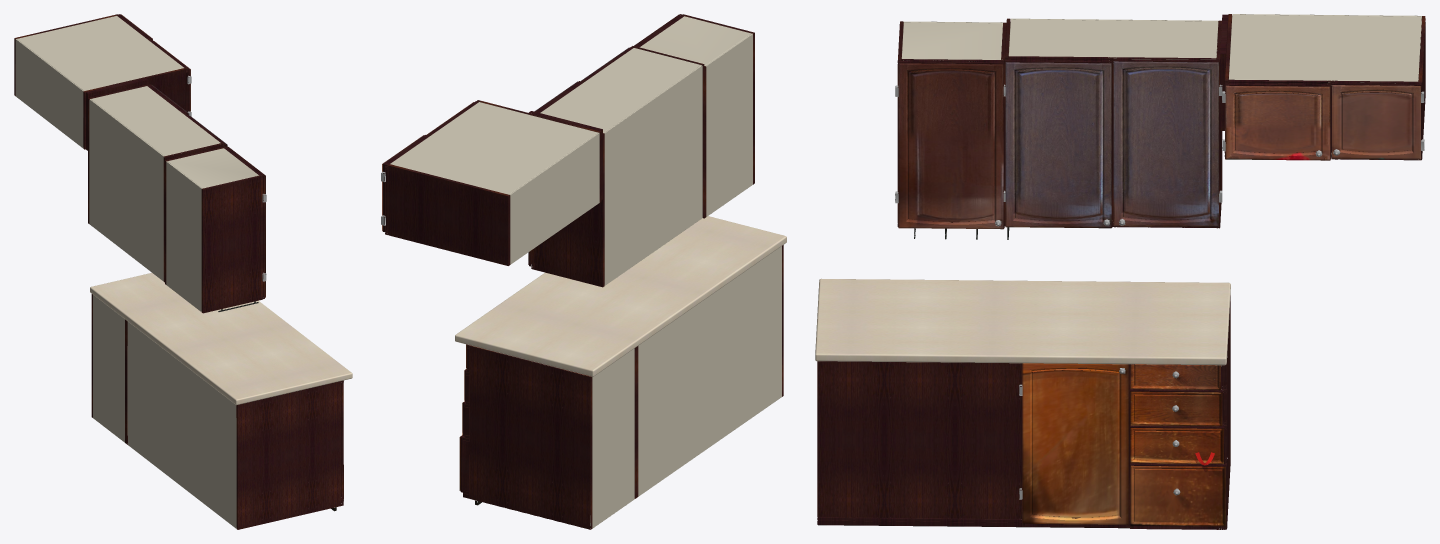
The picture shows the model from 3 angles, left to right: view 1: azimuth 30°, elevation 25°; view 2: azimuth 150°, elevation 25°; view 3: azimuth 270°, elevation 25°; orthographic projection. The views are drawn at different scales.
Parts seen in each view (by area): view 1: prep_base_carcass, prep_countertop, upper_pantry_carcass, upper_dishes_carcass, upper_fridge_carcass, drawer_stack_carcass, upper_pantry_door; view 2: drawer_stack_carcass, upper_fridge_carcass, upper_dishes_carcass, prep_base_carcass, prep_countertop, upper_pantry_carcass; view 3: prep_base_carcass, prep_countertop, upper_dishes_left, upper_dishes_right, upper_pantry_door, prep_base_door, upper_fridge_carcass, upper_dishes_carcass, upper_fridge_left, upper_fridge_right, fridge_side_drawer_4, upper_pantry_carcass (+4 smaller).
Boxes of the visible parts, bbox=[...] form: prep_base_carcass: bbox=[126, 320, 343, 529]; prep_countertop: bbox=[90, 273, 352, 404]; upper_pantry_carcass: bbox=[165, 146, 263, 313]; upper_dishes_carcass: bbox=[88, 84, 224, 282]; upper_fridge_carcass: bbox=[14, 14, 188, 150]; drawer_stack_carcass: bbox=[91, 294, 126, 443]; upper_pantry_door: bbox=[226, 146, 266, 298]; drawer_stack_carcass: bbox=[463, 344, 636, 529]; upper_fridge_carcass: bbox=[385, 100, 602, 265]; upper_dishes_carcass: bbox=[531, 46, 704, 287]; prep_base_carcass: bbox=[636, 245, 783, 497]; prep_countertop: bbox=[455, 216, 786, 376]; upper_pantry_carcass: bbox=[637, 14, 754, 218]; prep_base_carcass: bbox=[817, 361, 1129, 528]; prep_countertop: bbox=[815, 278, 1230, 365]; upper_dishes_left: bbox=[1003, 60, 1112, 228]; upper_dishes_right: bbox=[1113, 59, 1222, 227]; upper_pantry_door: bbox=[895, 61, 1004, 229]; prep_base_door: bbox=[1019, 363, 1129, 524]; upper_fridge_carcass: bbox=[1220, 14, 1425, 160]; upper_dishes_carcass: bbox=[1004, 18, 1222, 228]; upper_fridge_left: bbox=[1222, 83, 1330, 160]; upper_fridge_right: bbox=[1331, 83, 1424, 159]; fridge_side_drawer_4: bbox=[1130, 463, 1226, 526]; upper_pantry_carcass: bbox=[897, 21, 1006, 227].
Bounding box in the file's own units: 0.9145 × 2.32 × 2.88.
17 materials, 12 textured.
